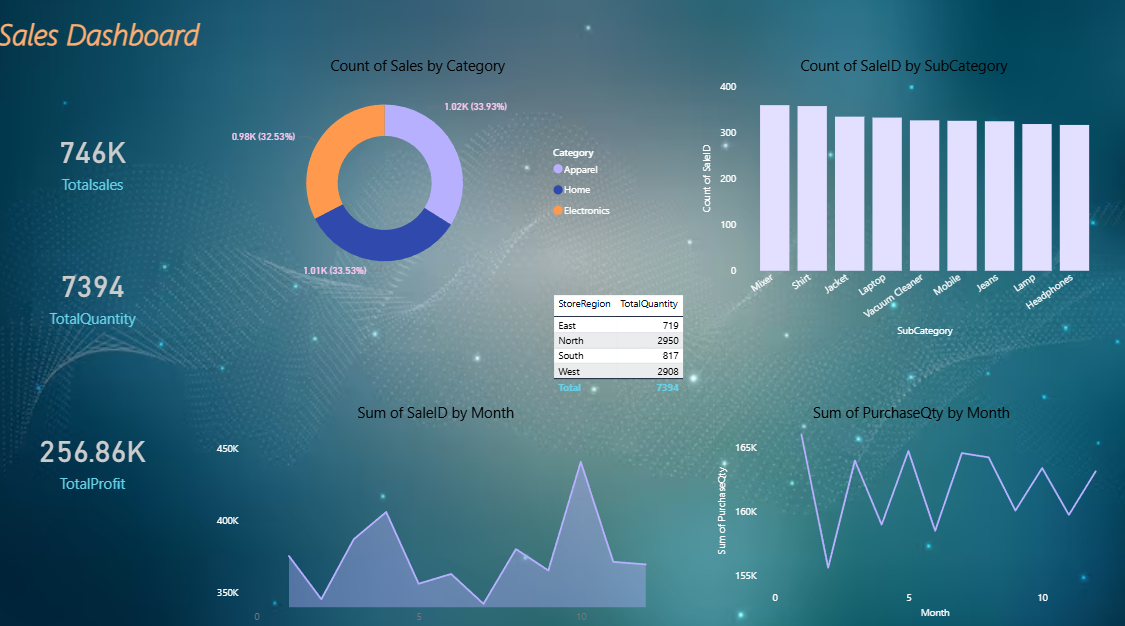

The dashboard page shown, as its layout file describes it:
{"tool":"powerbi","page":{"name":"Sales Overview","canvas":[1280,720],"ordinal":0},"visuals":[{"type":"card","fields":{"Values":["Measure.Totalsales"]},"box":[42.5,133.1,157.8,113.9],"z":0},{"type":"donutChart","title":"Count of Sales by Category","fields":{"Category":["Product_Dim.Category"],"Y":["CountNonNull(Sales_Fact.SaleID)"]},"box":[252.5,74.1,451.5,260.7],"z":1000},{"type":"areaChart","fields":{"Category":["Calendar_Dim.Month"],"Y":["Sum(Sales_Fact.SaleID)"]},"box":[252.5,455.6,491.3,252.5],"z":2000},{"type":"columnChart","fields":{"Y":["CountNonNull(Sales_Fact.SaleID)"],"Category":["Product_Dim.SubCategory"]},"box":[786.3,74.1,451.5,314.2],"z":3000},{"type":"tableEx","fields":{"Values":["Store_Dim.StoreRegion","Measure.TotalQuantity"]},"box":[621.6,333.4,164.7,199],"z":4000},{"type":"card","fields":{"Values":["Measure.TotalQuantity"]},"box":[42.5,285.4,157.8,102.9],"z":5000},{"type":"card","fields":{"Values":["Measure.TotalProfit"]},"box":[42.5,467.9,157.8,100.2],"z":6000},{"type":"lineChart","fields":{"Category":["Calendar_Dim.Month"],"Y":["Sum(Inventory_Fact.PurchaseQty)"]},"box":[802.7,455.6,435,242.9],"z":8000},{"type":"textbox","box":[12.3,24.7,240.1,155.1],"z":8001}]}

Visuals, with their boxes in screenshot pixels (x1, y1, x2, y2), scaled from the page's 1280x720 canvas onto the 1125x626 screenshot:
card - Measure.Totalsales: 37/116/176/215
"Count of Sales by Category" donutChart: 222/64/619/291
areaChart - Calendar_Dim.Month x Sum(Sales_Fact.SaleID): 222/396/654/616
columnChart - CountNonNull(Sales_Fact.SaleID) x Product_Dim.SubCategory: 691/64/1088/338
tableEx - Store_Dim.StoreRegion x Measure.TotalQuantity: 546/290/691/463
card - Measure.TotalQuantity: 37/248/176/338
card - Measure.TotalProfit: 37/407/176/494
lineChart - Calendar_Dim.Month x Sum(Inventory_Fact.PurchaseQty): 705/396/1088/607
textbox: 11/21/222/156
